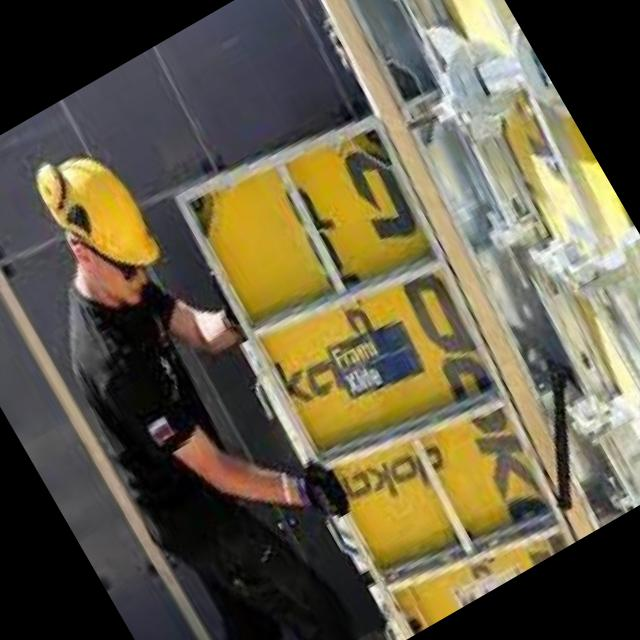hard_hat: (26, 130, 176, 303)
vehicle: (0, 88, 449, 640)
